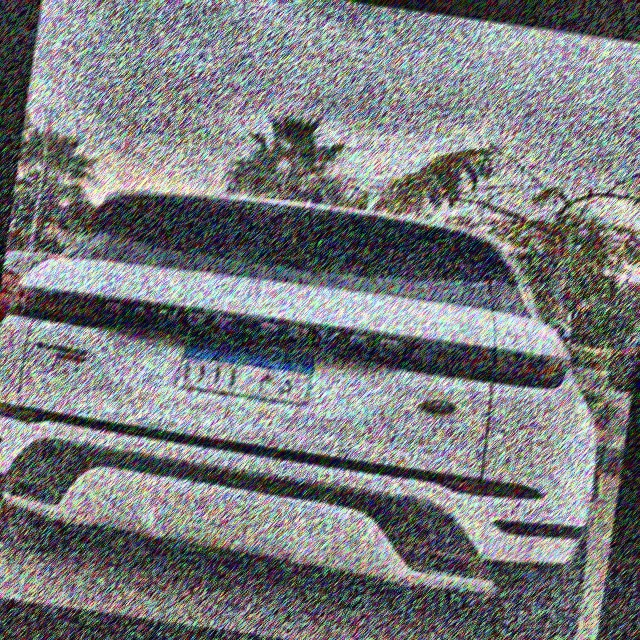License Plate: (172, 333, 319, 409)
